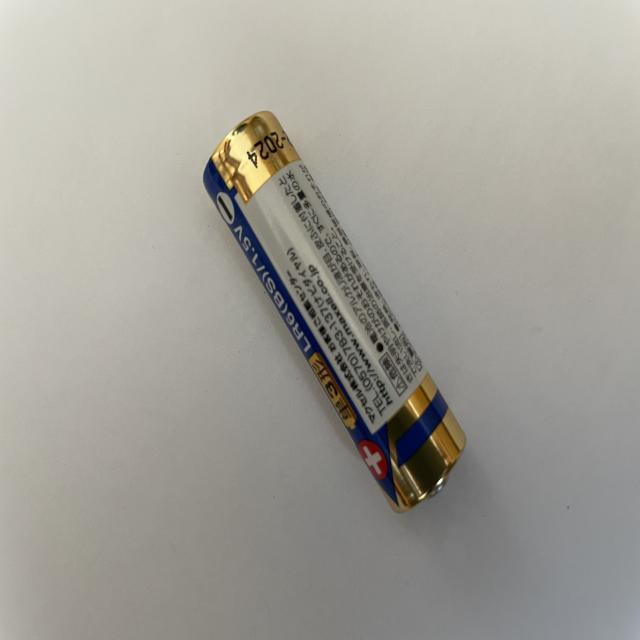AA: (201, 109, 469, 517)
